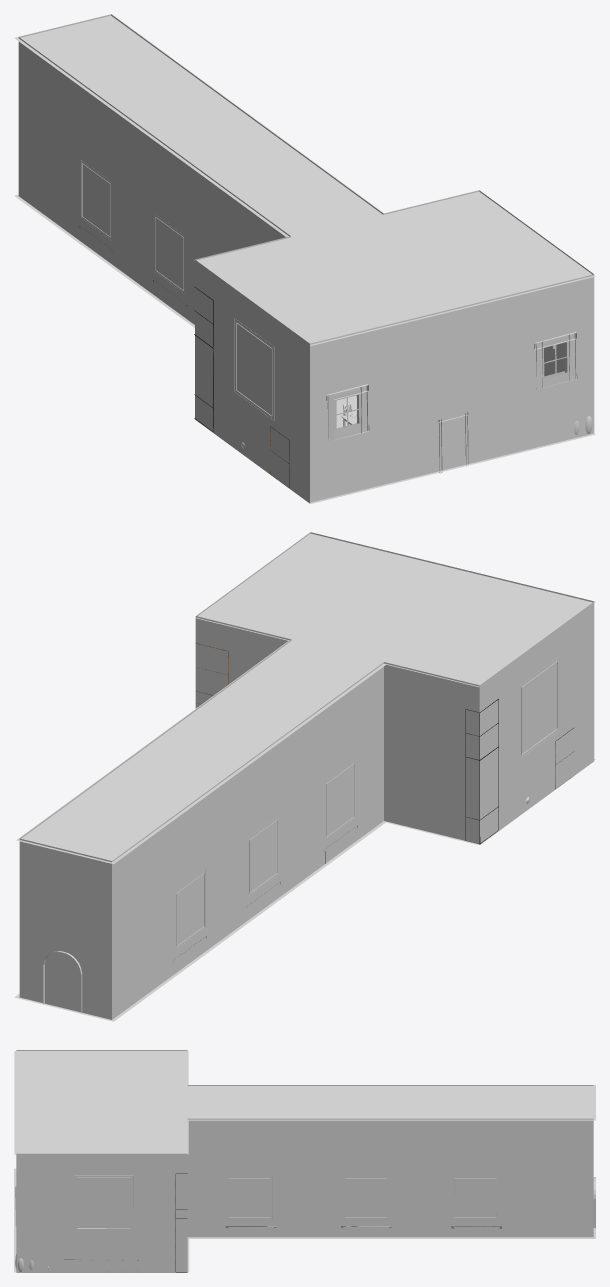
File: Corridor_v4.fbx
3 renders of one model, top to bottom at view 1: azimuth 30°, elevation 25°; view 2: azimuth 150°, elevation 25°; view 3: azimuth 270°, elevation 25°, orthographic. The views are drawn at different scales.
Parts seen in each view (by area): view 1: God2.001, God3.001, God9.001, God1.001; view 2: God2.001, God3.001, God1.001, God9.001, God8.001; view 3: God2.001, God3.001, God1.001, God9.001, God8.001.
Boxes of the visible parts, x1,y1,x2,y2 form: God2.001: (18,14,594,503); God3.001: (14,14,595,345); God9.001: (81,160,592,448); God1.001: (14,194,595,503); God2.001: (19,532,594,1019); God3.001: (16,533,595,864); God1.001: (14,759,595,1021); God9.001: (176,658,557,946); God8.001: (195,643,573,940); God2.001: (16,1050,593,1272); God3.001: (14,1051,595,1154); God1.001: (14,1168,595,1272); God9.001: (15,1172,496,1271); God8.001: (64,1173,501,1272).
Size of the model in its own units: 2245 by 1211 by 5295.
